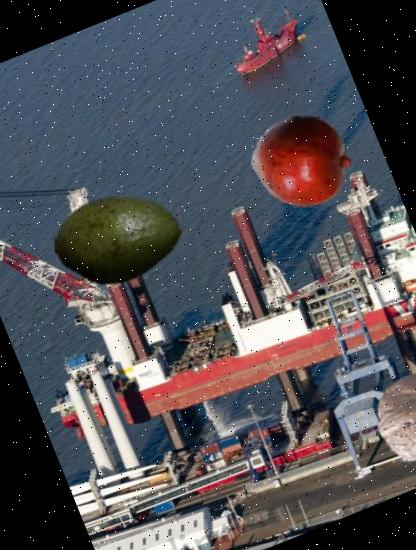Avocado: (35, 156, 202, 324)
Mango: (235, 94, 367, 228)
Walnut: (360, 356, 416, 476)
